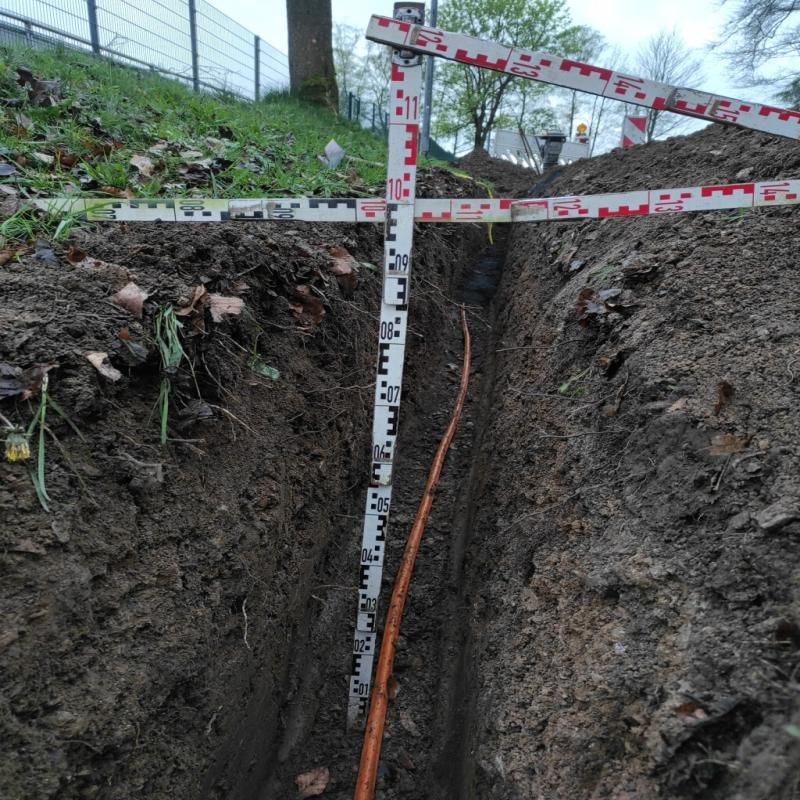Orang-Speednetrohrchen: (355, 333, 470, 800)
